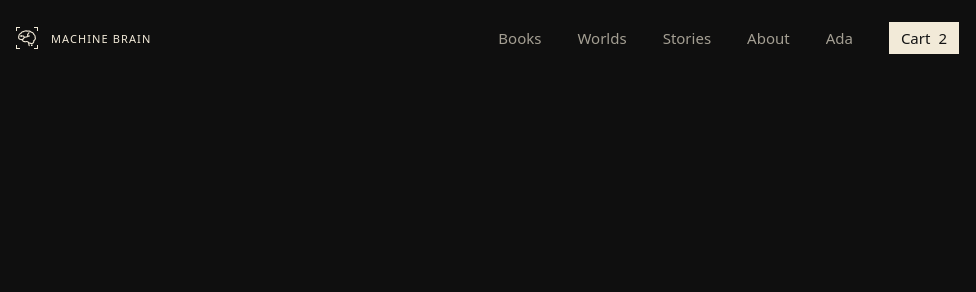
Navbar › shows the signed-in name and account menu on the home header
The image size is (976, 292).
Click the button named "Account, Ada": (839, 38) [826,16,853,60]
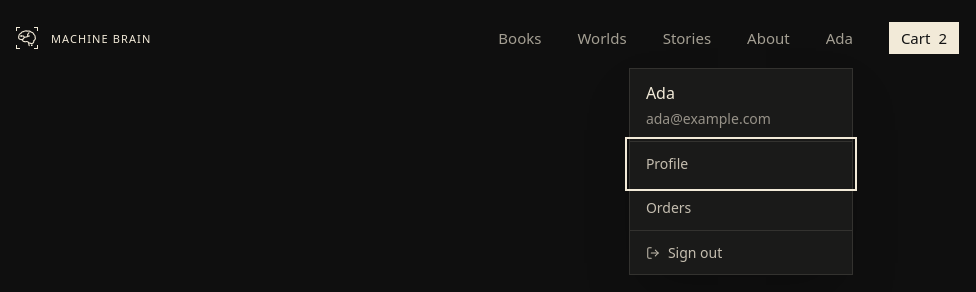
Now the menu item "Profile" is shown, box [646,154,688,173]
Now the menu item "Orders" is shown, box [646,198,691,217]
Now the menu item "Sign out" is shown, box [630,230,852,274]
